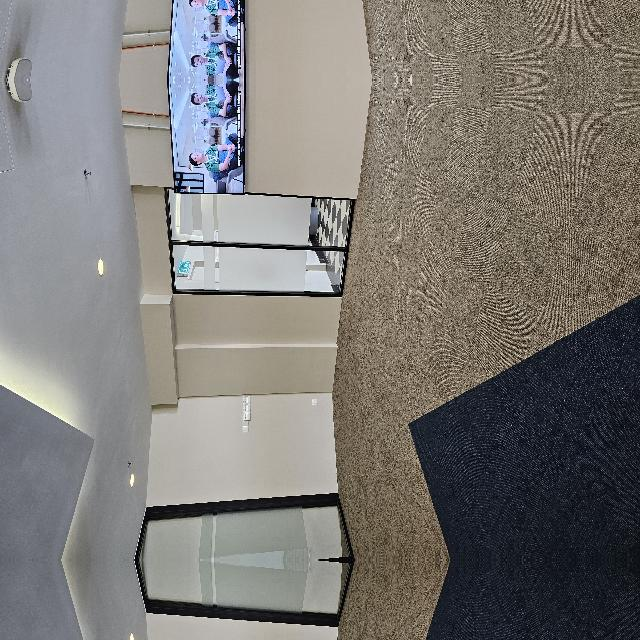door: (250, 234, 380, 443)
